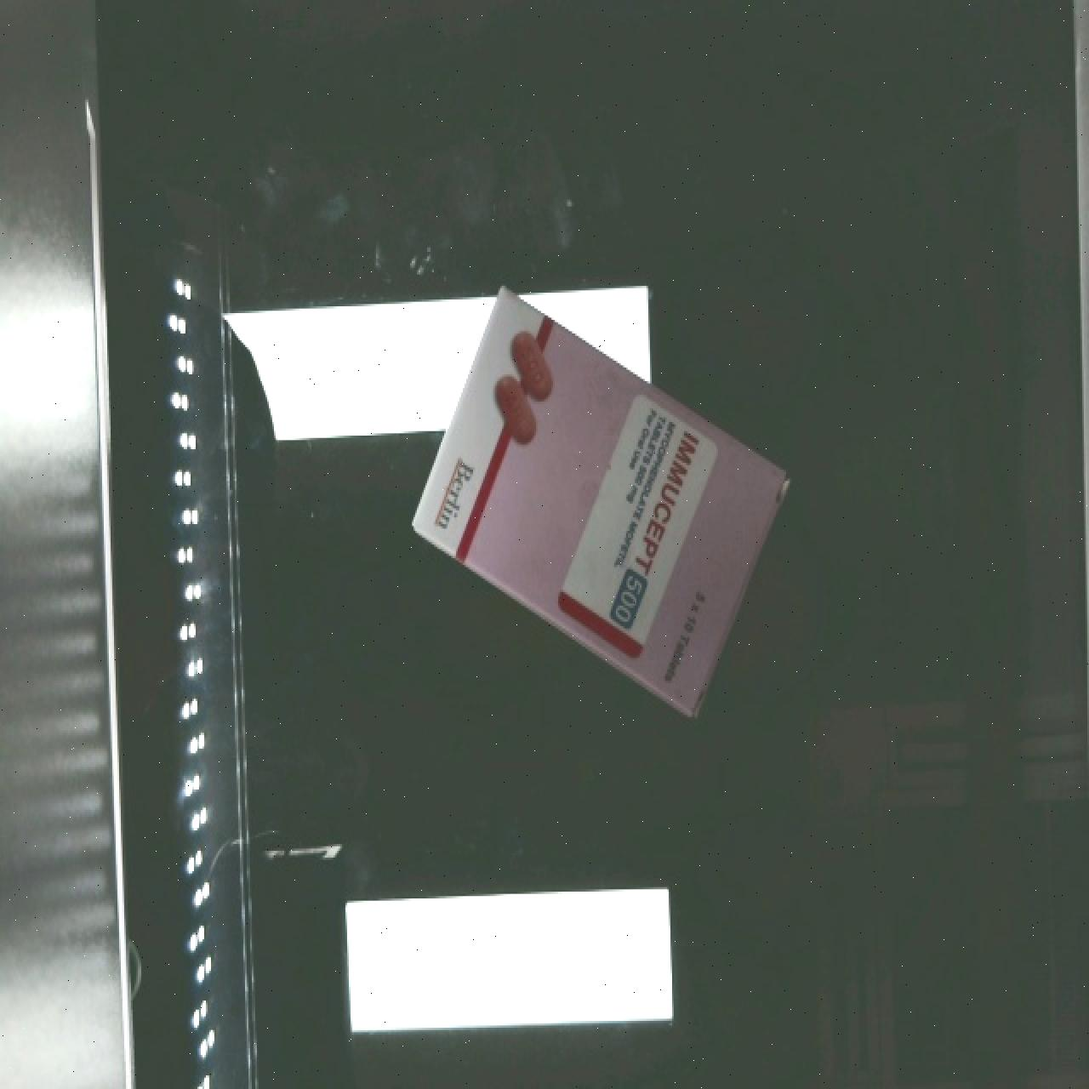medicine_label_obb: (586, 412, 719, 658)
